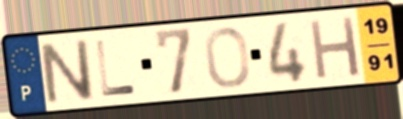4: (265, 19, 310, 85)
7: (152, 26, 195, 97)
H: (307, 13, 364, 83)
L: (93, 38, 140, 99)
N: (35, 37, 98, 106)
O: (202, 24, 253, 90)
